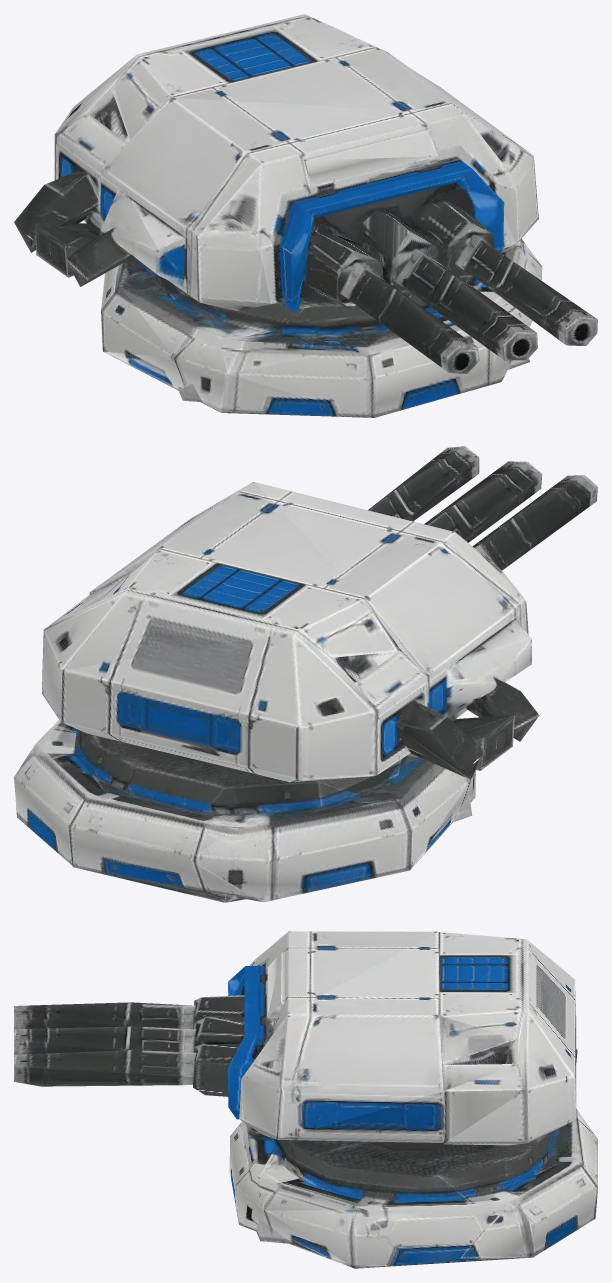
File: tower.glb
3 views of the same model, one above another, from view 1: azimuth 30°, elevation 25°; view 2: azimuth 150°, elevation 25°; view 3: azimuth 270°, elevation 25° (orthographic). The views are drawn at different scales.
Visible parts, largest first — view 1: mesh_node; view 2: mesh_node; view 3: mesh_node.
Boxes of the visible parts, left/top/right/bottom form: mesh_node: left=14, top=14, right=597, bottom=417; mesh_node: left=14, top=446, right=597, bottom=902; mesh_node: left=14, top=931, right=597, bottom=1268.
Size of the model in its own units: 0.7402 by 0.3955 by 1.
Materials: 1 (1 with a texture image).
